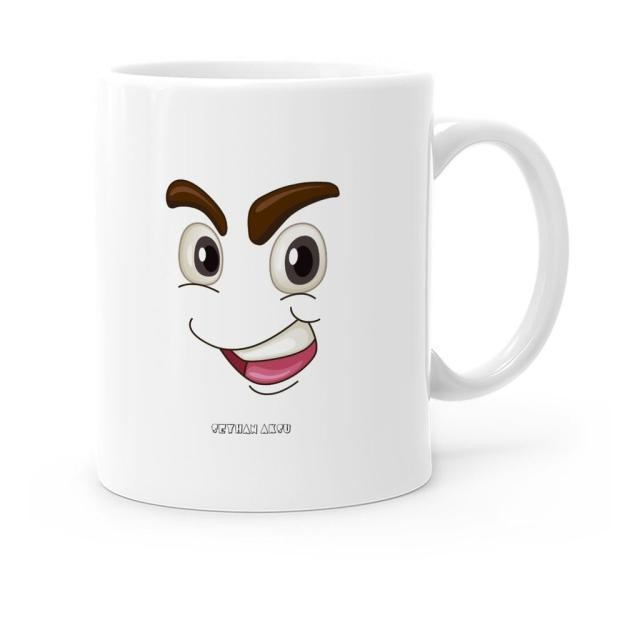Coffee Mug: (98, 56, 571, 516)
